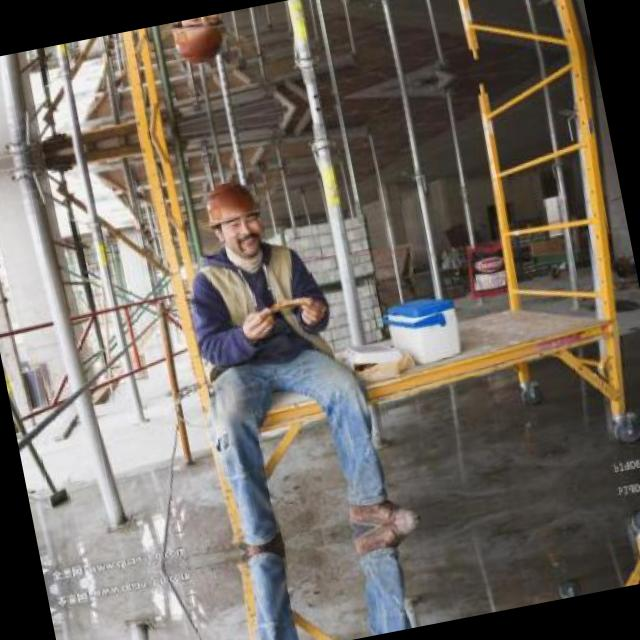helmet: (192, 174, 278, 268), (160, 11, 240, 72)
